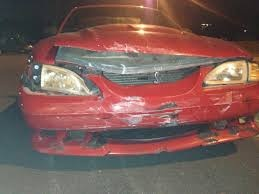Broken-glass: (28, 62, 93, 99)
Scratch: (108, 103, 145, 120)
Smashed: (52, 38, 227, 85), (101, 95, 231, 125)
